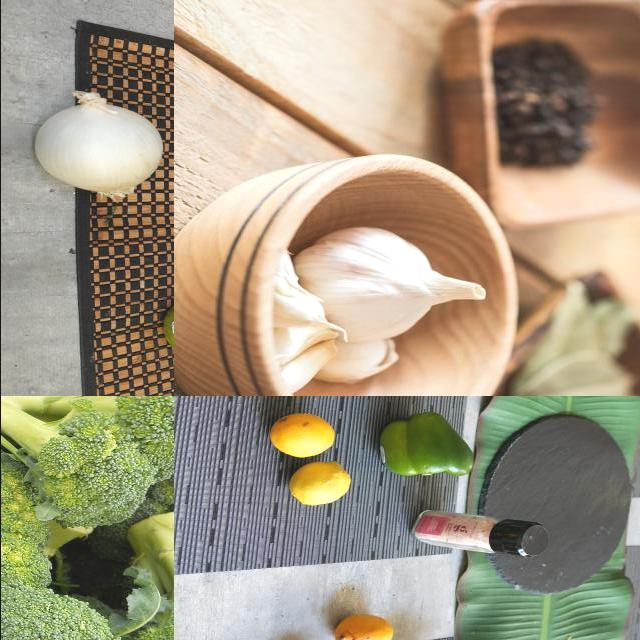bell_pepper: (367, 406, 484, 486)
garlic: (291, 226, 489, 343)
onion: (25, 93, 163, 205)
